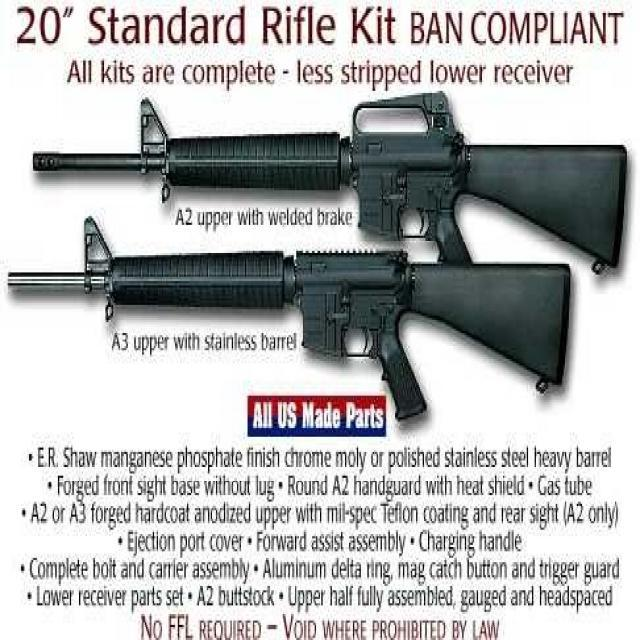weapon: (11, 218, 580, 448), (24, 71, 634, 258)
